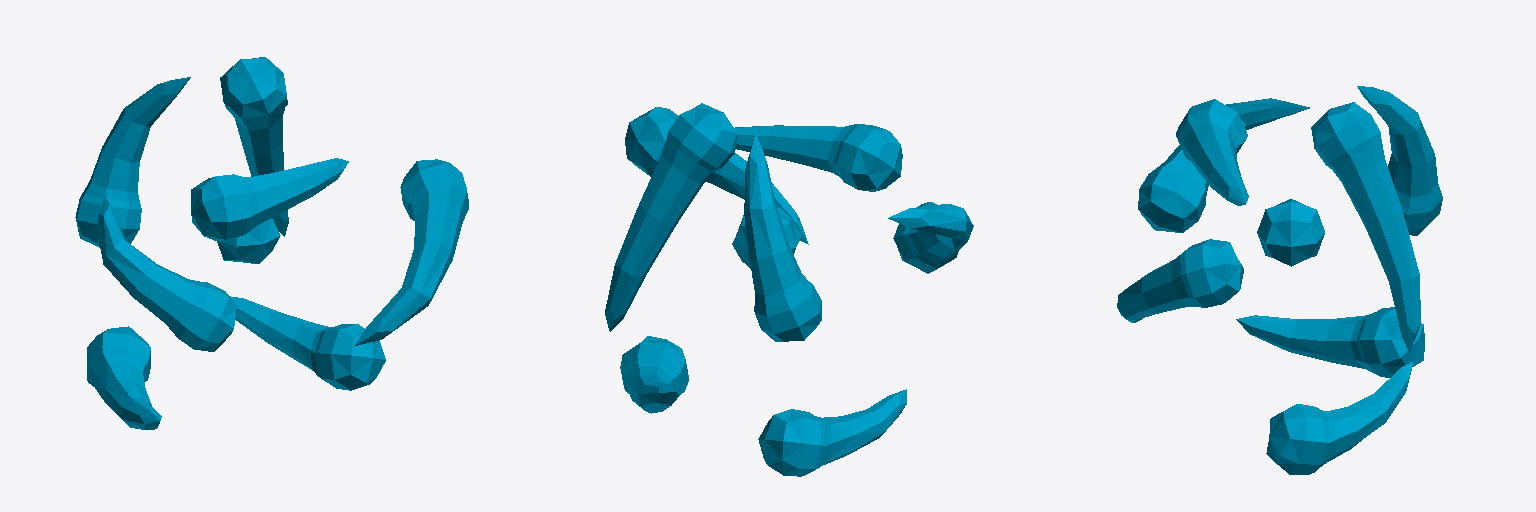
File: energy-star-6.obj
3 renders of one model, left to right at view 1: azimuth 30°, elevation 25°; view 2: azimuth 150°, elevation 25°; view 3: azimuth 270°, elevation 25°, orthographic.
Visible parts, largest first — view 1: EnergyStar; view 2: EnergyStar; view 3: EnergyStar.
Boxes of the visible parts, x1,y1,x2,y2 form: EnergyStar: [75, 57, 468, 429]; EnergyStar: [605, 103, 973, 476]; EnergyStar: [1117, 86, 1442, 474].
Size of the model in its own units: 2.13 by 1.91 by 1.72.